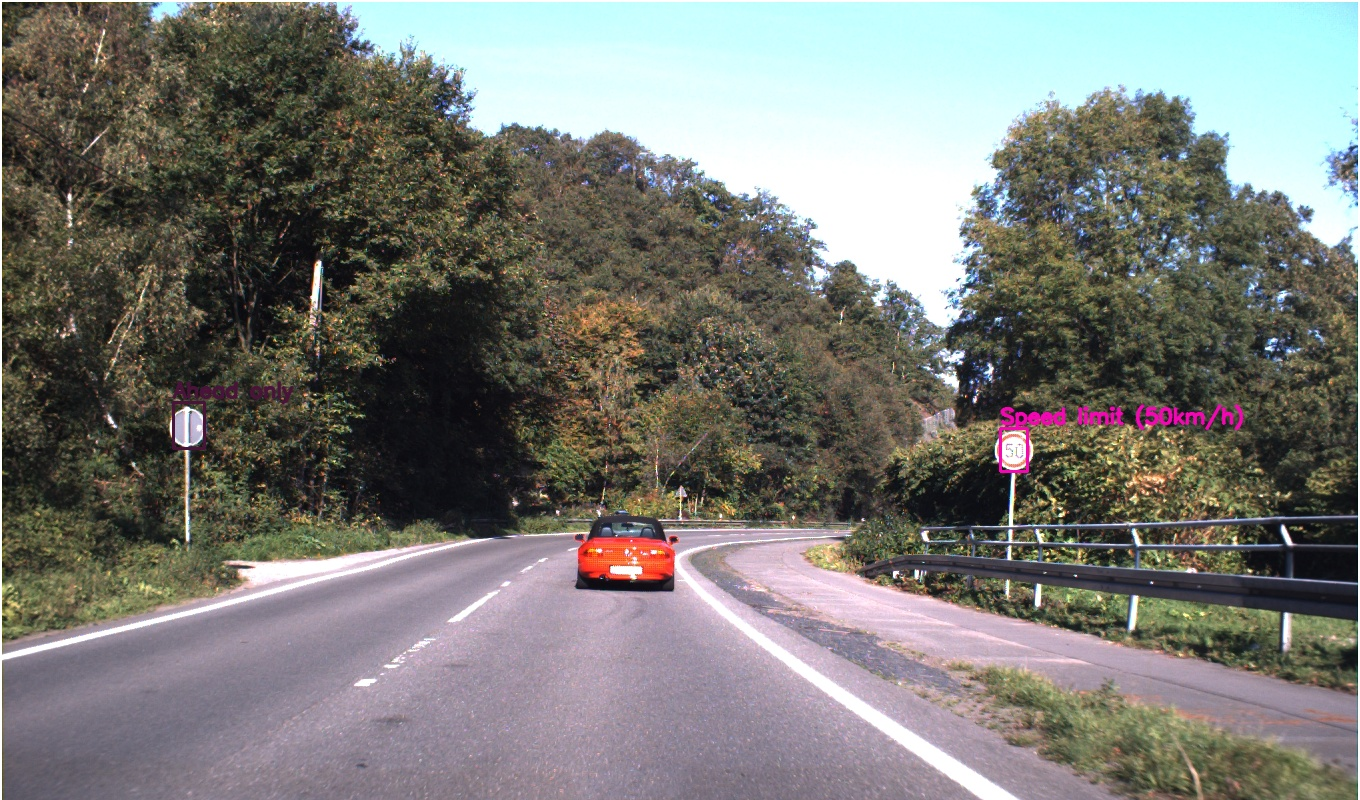Priority road: (793, 400, 854, 461)
